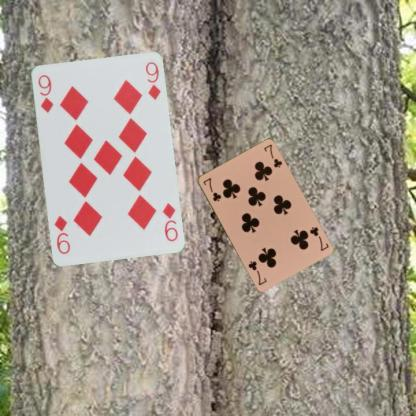7c: (200, 175, 223, 203), (307, 224, 330, 252)
9d: (35, 72, 55, 113), (160, 201, 179, 243)
